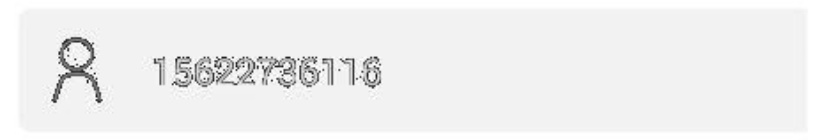EditText: (1, 1, 821, 139)
